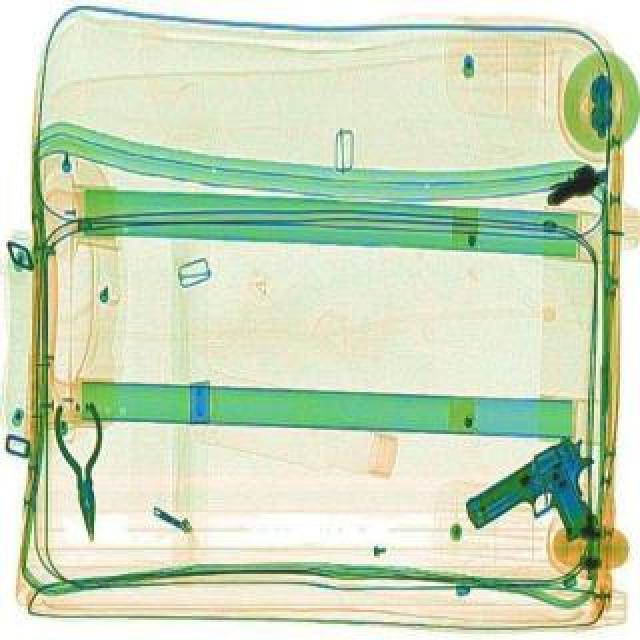gun: (454, 428, 630, 576)
wrench: (50, 398, 118, 542)
